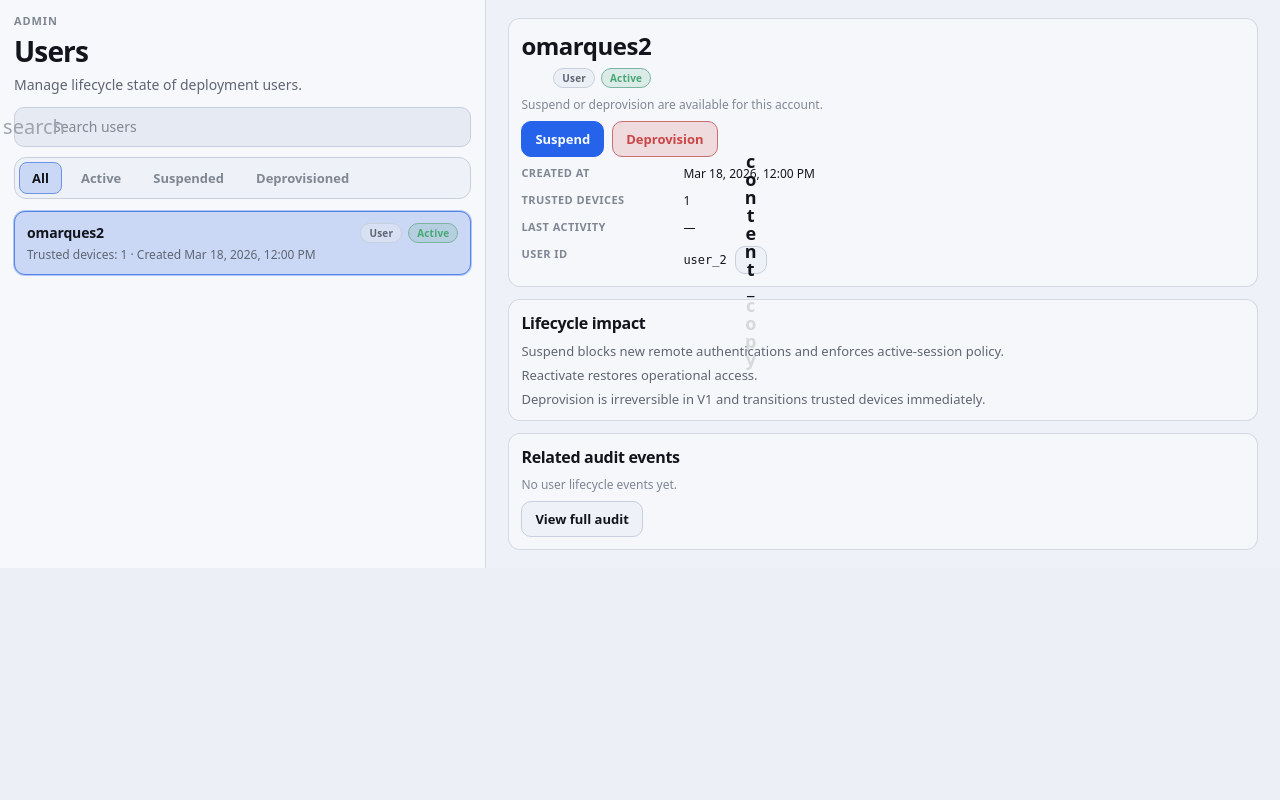
it: AdminConsolePage › closes suspend confirmation dialog after successful mutation
Click the button "Suspend".
click(563, 139)  # box [521, 121, 604, 157]
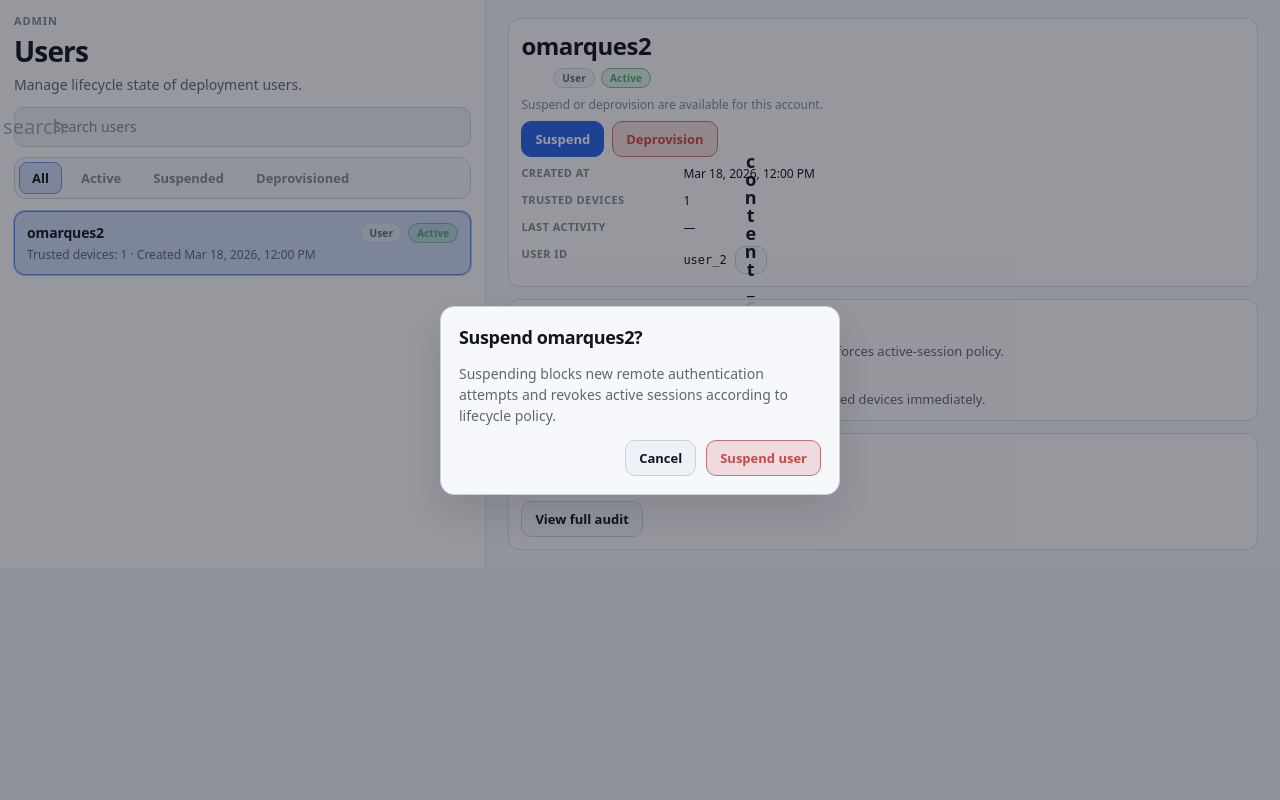
Result: the text "Suspend omarques2?" is shown at [459, 324, 642, 348]
Result: the button "Suspend user" is shown
Click the button "Suspend user".
click(764, 458)  # box [706, 440, 821, 476]
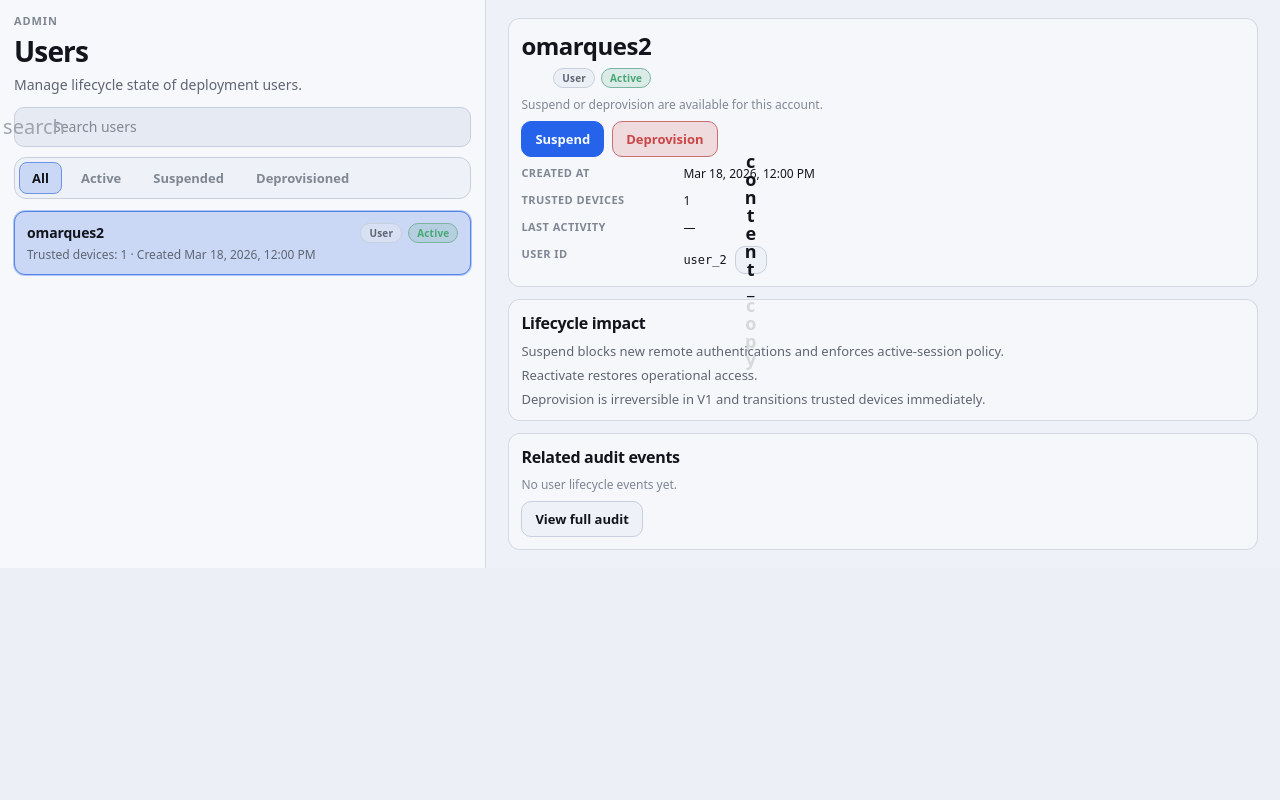
Result: the text "Suspend omarques2?" is gone
